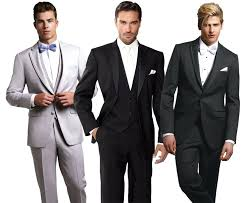F_M_suit jacket: (70, 39, 175, 147), (157, 33, 245, 140)
F_dress pants: (93, 134, 154, 202), (175, 137, 223, 203)
